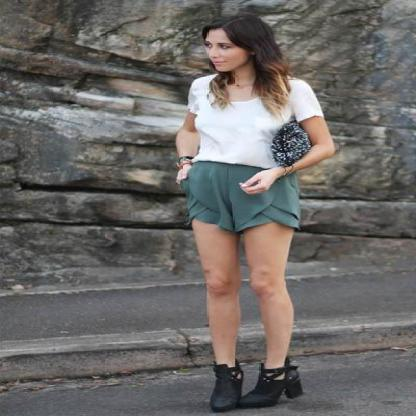bag: (272, 116, 318, 166)
shirt: (188, 74, 322, 173)
shoe: (207, 356, 303, 416)
skirt: (186, 160, 311, 232)
